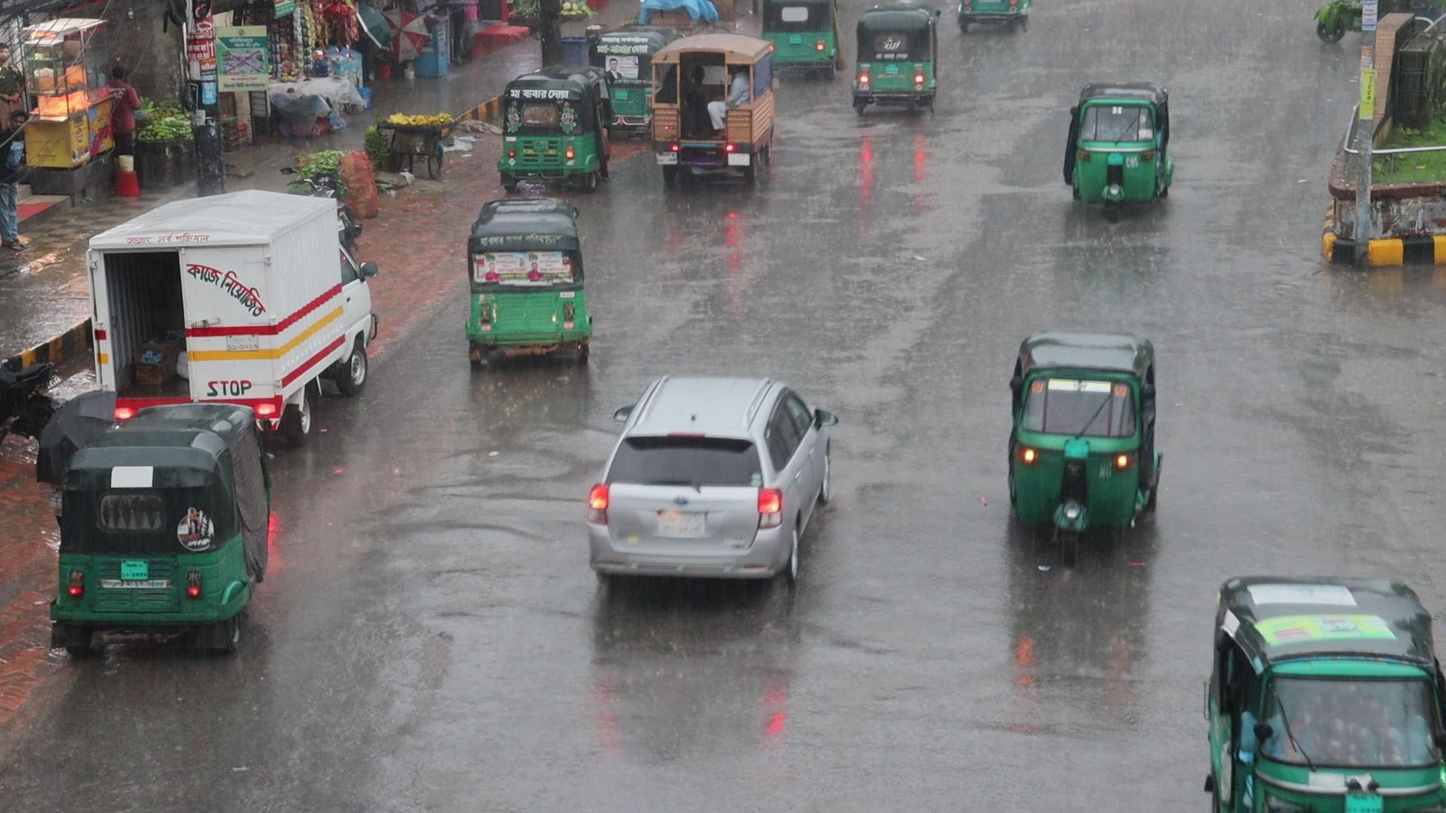Car: (581, 354, 840, 606)
Truck: (645, 28, 781, 184)
